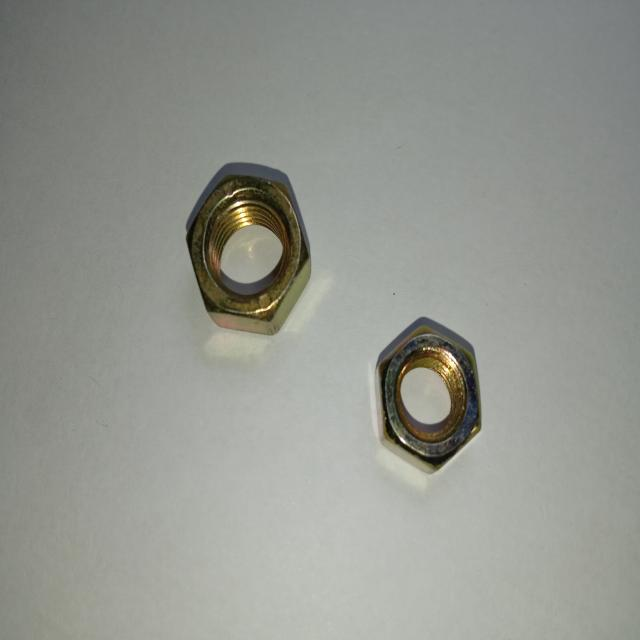m10: (187, 181, 308, 334)
m8: (377, 328, 480, 465)
